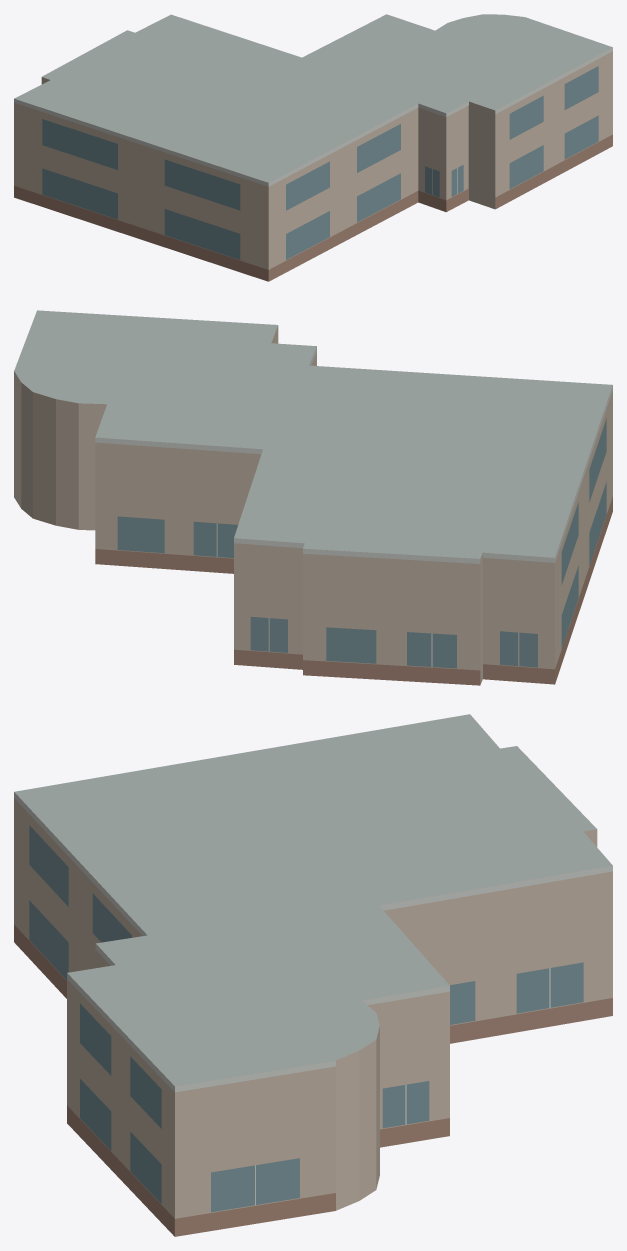
Rendered from survey-upis-32492064.glb.
The picture shows the model from 3 angles, top to bottom: view 1: azimuth 30°, elevation 25°; view 2: azimuth 150°, elevation 25°; view 3: azimuth 270°, elevation 25°; orthographic projection. The views are drawn at different scales.
Parts seen in each view (by area): view 1: survey-upis-32492064.tmp; view 2: survey-upis-32492064.tmp; view 3: survey-upis-32492064.tmp.
Boxes of the visible parts, <box> form: survey-upis-32492064.tmp: <box>14,14,612,281</box>; survey-upis-32492064.tmp: <box>14,310,612,685</box>; survey-upis-32492064.tmp: <box>14,714,612,1236</box>.
Bounding box in the file's own units: 32.39 × 6.1 × 22.02.
